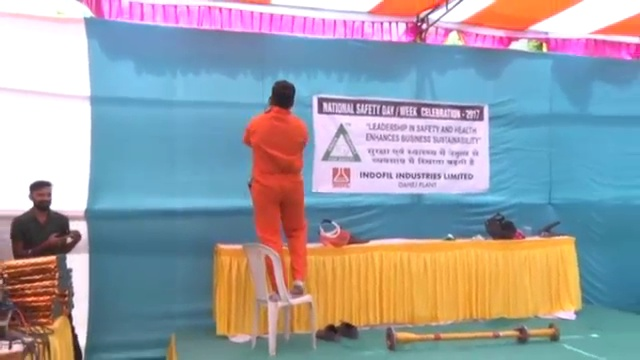helmet_off: (269, 78, 296, 112), (28, 179, 54, 211)
person: (240, 76, 316, 294), (11, 178, 80, 272)
